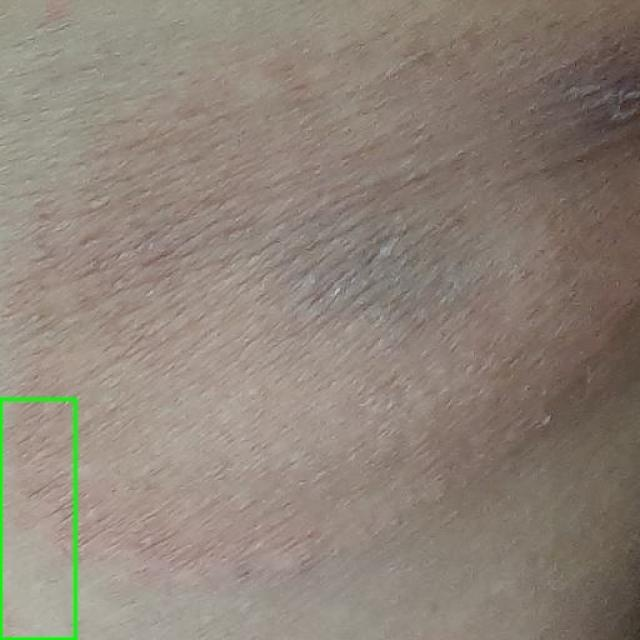Tinea Corporis: (0, 399, 75, 639)
